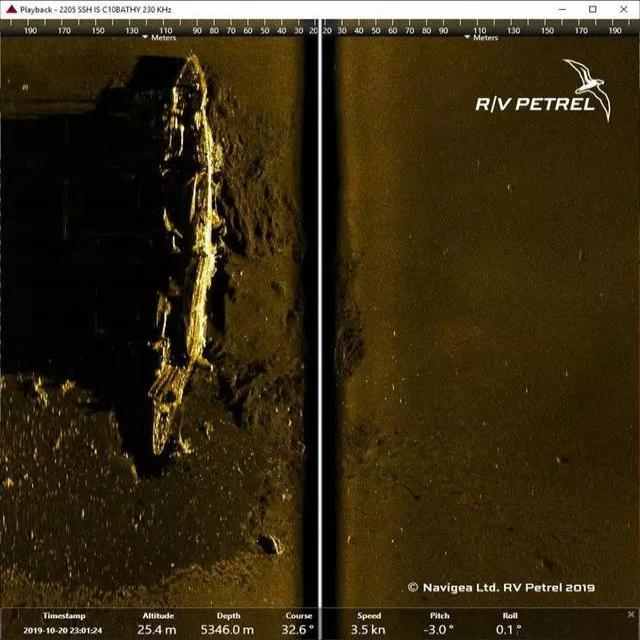ship: (134, 46, 230, 456)
